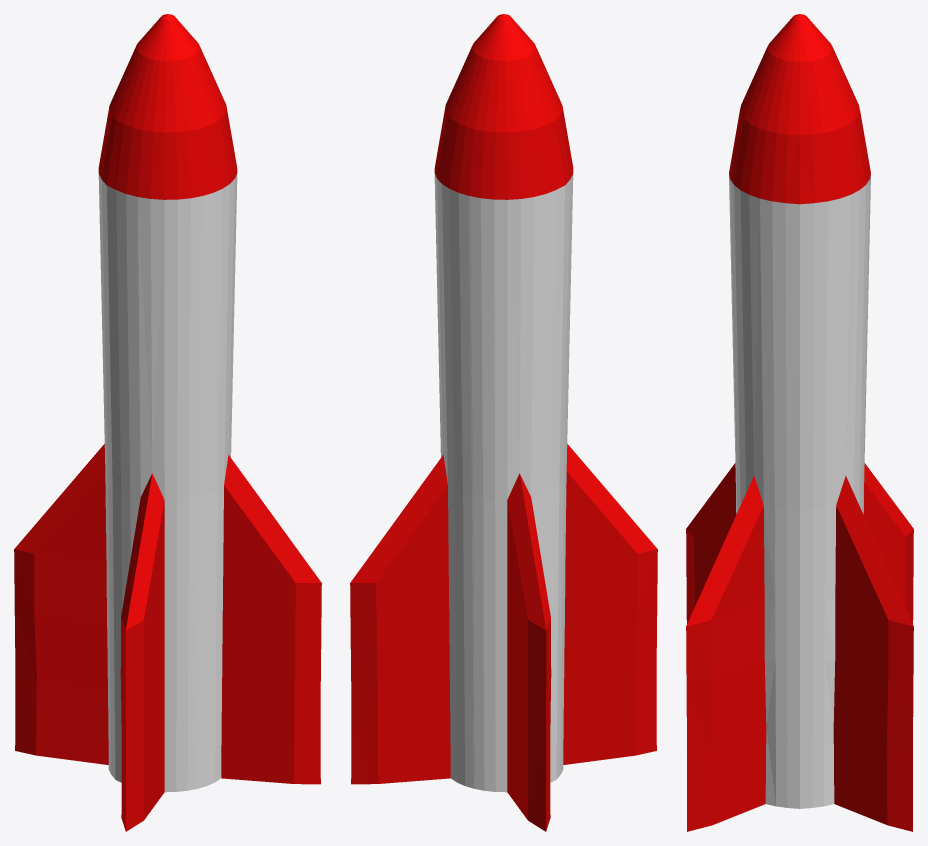
File: rocket.obj
3 views of the same model, side by side, from view 1: azimuth 30°, elevation 25°; view 2: azimuth 150°, elevation 25°; view 3: azimuth 270°, elevation 25° (orthographic). The views are drawn at different scales.
Parts seen in each view (by area): view 1: Cylinder; view 2: Cylinder; view 3: Cylinder.
Part boxes in pixels (x1,y1,x2,y2): Cylinder: (14,14,321,831); Cylinder: (350,14,657,831); Cylinder: (686,14,913,831).
Size of the model in its own units: 0.2951 by 1.08 by 0.2906.
